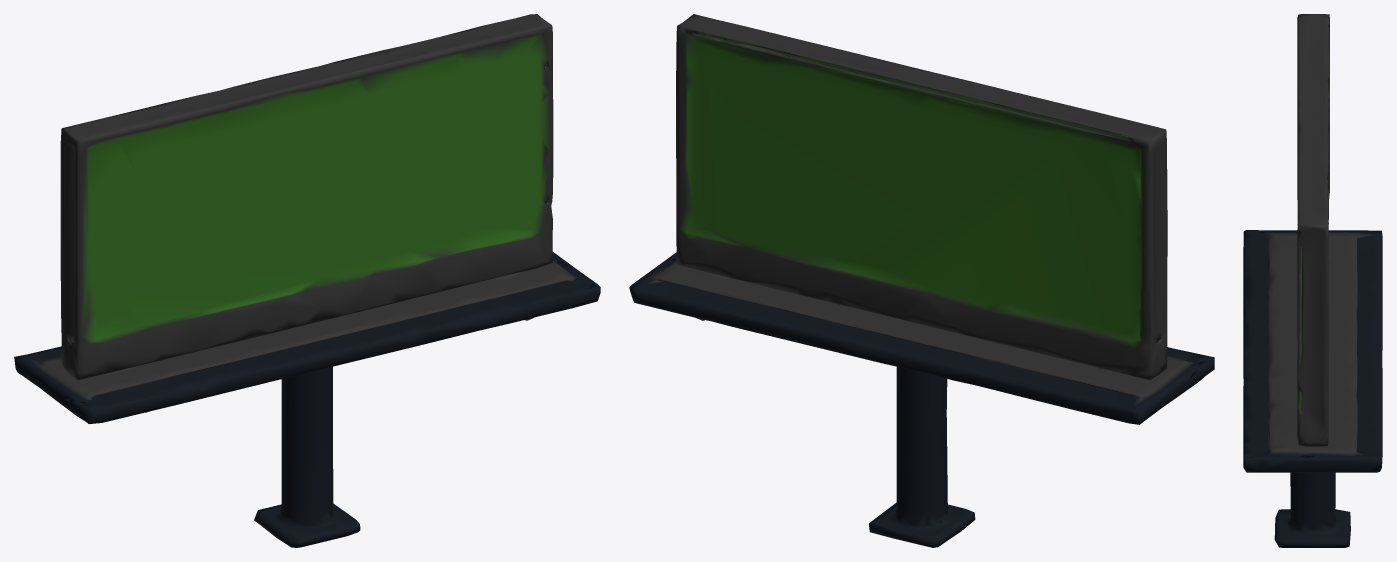
The model's file is gen3d-billboard-lod0.glb.
3 renders of one model, left to right at view 1: azimuth 30°, elevation 25°; view 2: azimuth 150°, elevation 25°; view 3: azimuth 270°, elevation 25°, orthographic. The views are drawn at different scales.
Visible parts, largest first — view 1: part_0; view 2: part_0; view 3: part_0.
Boxes of the visible parts, x1,y1,x2,y2 form: part_0: [14, 14, 600, 547]; part_0: [629, 14, 1214, 547]; part_0: [1243, 14, 1382, 547].
Bounding box in the file's own units: 1.19 × 1 × 0.306.
